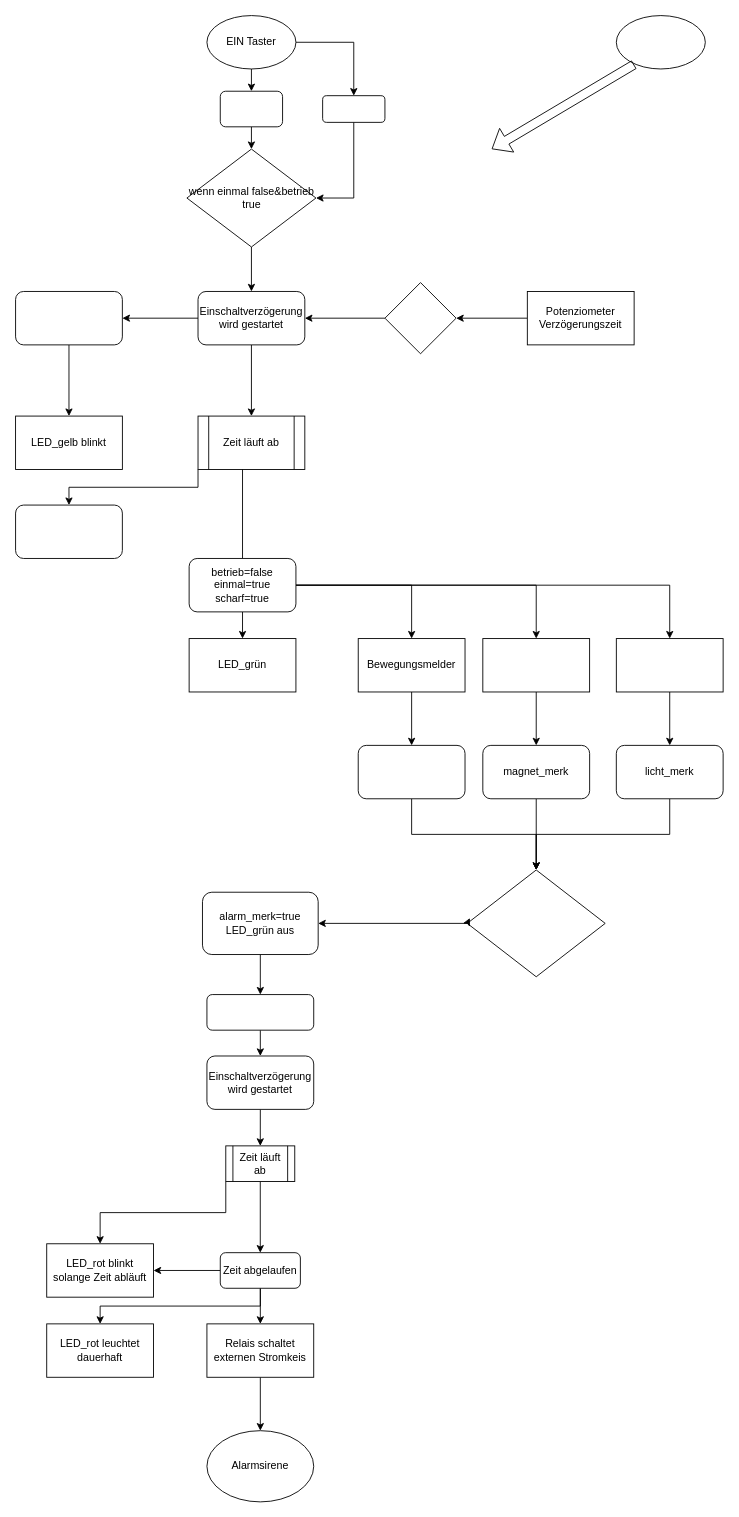
This 739x1517 diagram has some shape labels left out. Here are the shapes that lost their labels. From the top down, the box of each, then its label:
(615, 15, 705, 69): Aus Taster= Reset-Funktion
(219, 90, 283, 127): einmal =false
(322, 95, 385, 122): betrieb=true
(15, 291, 122, 345): Funktion blink_gelb
(15, 504, 122, 558): LED_gelb aus
(482, 638, 590, 692): Reed-Kontakt
(615, 638, 723, 692): Lichtschranke
(357, 744, 465, 799): bewegung_merk
(466, 869, 605, 977): wenn 2 Melder auslösen
(206, 994, 314, 1030): Funktion: Alarm
